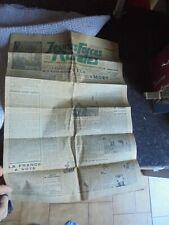paper: (1, 32, 152, 224)
